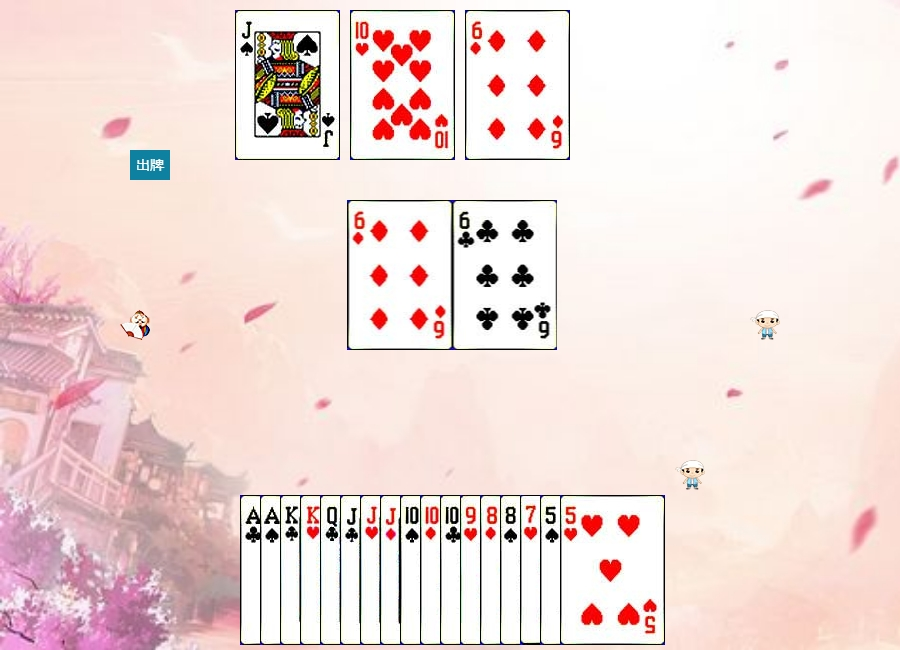10~1: (420, 495, 525, 645)
10~2: (440, 495, 545, 645)
10~3: (350, 10, 455, 160)
10~4: (400, 495, 505, 645)
11~1: (380, 495, 485, 645)
11~2: (340, 495, 445, 645)
11~3: (360, 495, 465, 645)
11~4: (235, 10, 340, 160)
12~2: (320, 495, 425, 645)
13~2: (280, 495, 385, 645)
13~3: (300, 495, 405, 645)
14~2: (240, 495, 345, 645)
14~4: (260, 495, 365, 645)
5~3: (560, 495, 665, 645)
5~4: (540, 495, 645, 645)
6~1: (465, 10, 570, 160), (348, 200, 453, 350)
6~2: (453, 200, 558, 350)
7~3: (520, 495, 625, 645)
8~1: (480, 495, 585, 645)
8~4: (500, 495, 605, 645)
9~3: (460, 495, 565, 645)
